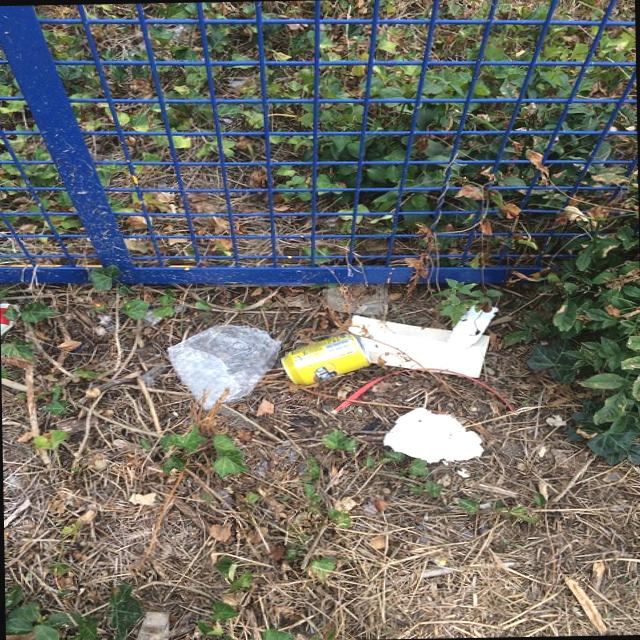Recycle: (348, 304, 512, 386)
Trash: (164, 326, 286, 416), (382, 404, 508, 482), (276, 329, 388, 397)
